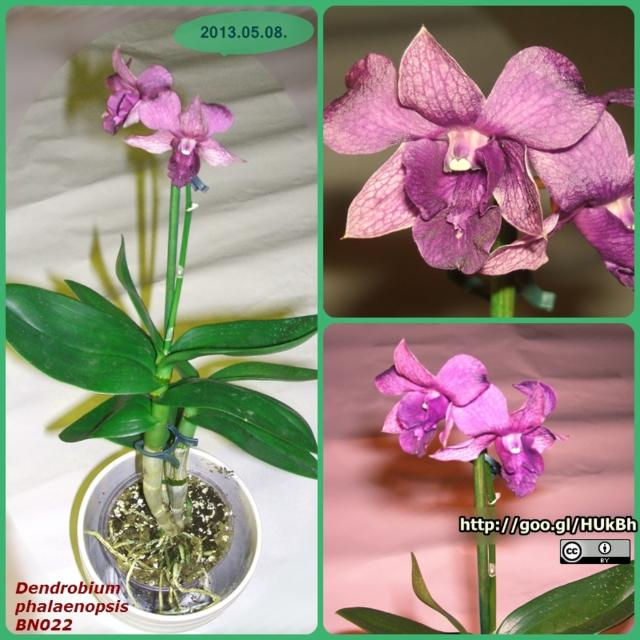Flower: (326, 26, 598, 278), (434, 377, 576, 497), (374, 335, 498, 455), (118, 93, 240, 189), (578, 88, 634, 292), (97, 48, 175, 132)
